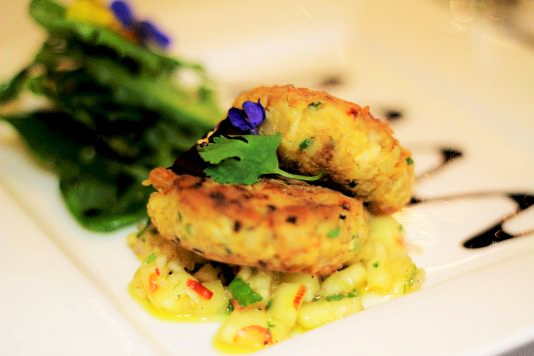curry: (0, 1, 222, 233)
soup: (137, 85, 420, 278)
